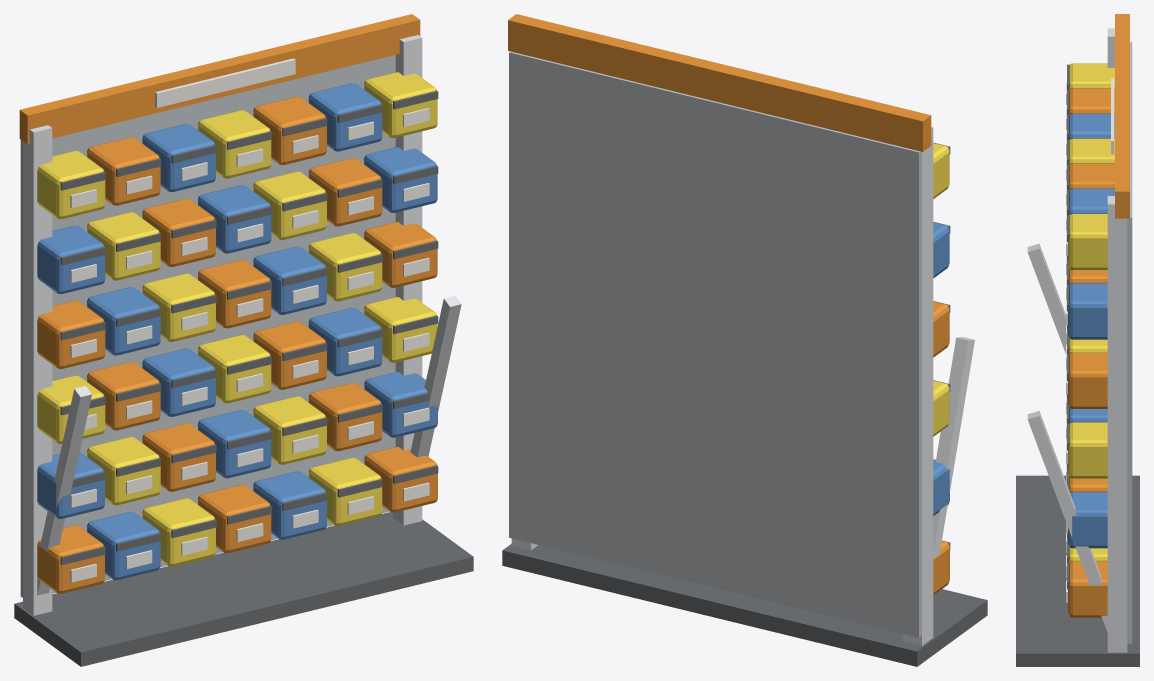
File: tool-hire-depot-and-plant-yard-tool-hire-depot-and-pla-f87d19f9__35337.glb
3 views of the same model, side by side, from view 1: azimuth 30°, elevation 25°; view 2: azimuth 150°, elevation 25°; view 3: azimuth 270°, elevation 25° (orthographic). The views are drawn at different scales.
Parts seen in each view (by area): view 1: tool-hire-depot-and-plant-yard-parts-bin-wall; view 2: tool-hire-depot-and-plant-yard-parts-bin-wall; view 3: tool-hire-depot-and-plant-yard-parts-bin-wall.
Part boxes in pixels (x1=…): tool-hire-depot-and-plant-yard-parts-bin-wall: x1=14, y1=14, x2=473, y2=666; tool-hire-depot-and-plant-yard-parts-bin-wall: x1=502, y1=14, x2=987, y2=666; tool-hire-depot-and-plant-yard-parts-bin-wall: x1=1016, y1=14, x2=1139, y2=666.
Size of the model in its own units: 1.7 by 2.12 by 0.5.
